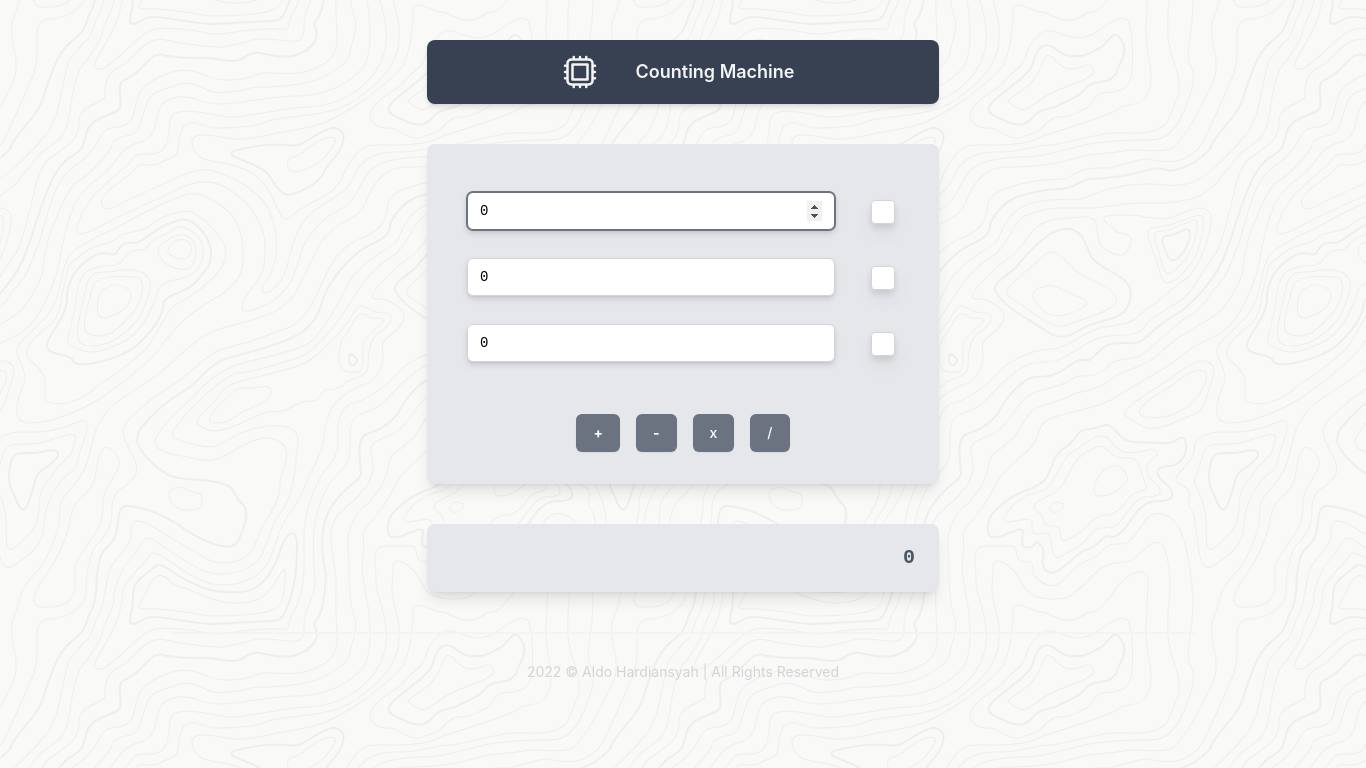
Scenario: Form Check › Do Sum no Check
Type "10" into the number field with test id "firstNumber" at x=651, y=211, box top-left (467, 192), bottom-right (835, 230)
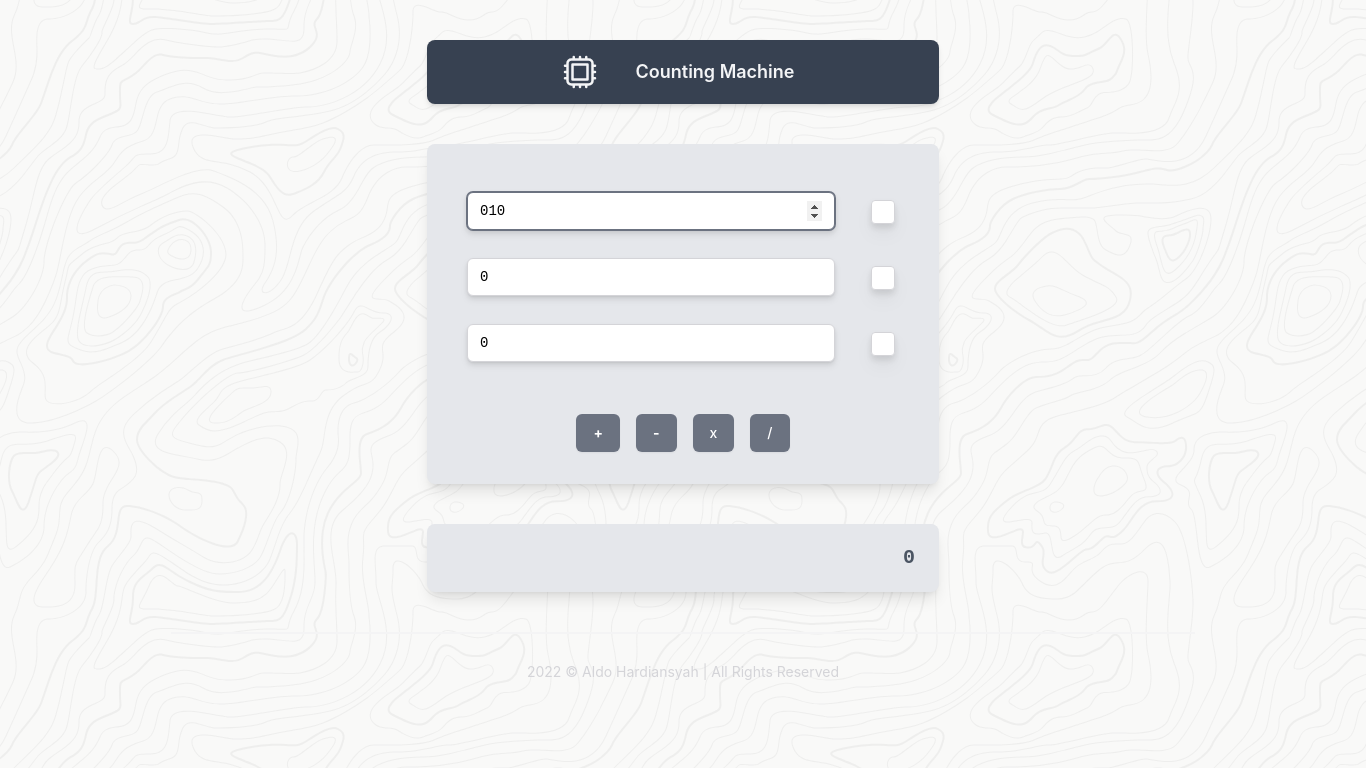
Type "2" into the number field with test id "secondNumber" at x=651, y=277, box top-left (467, 258), bottom-right (835, 296)
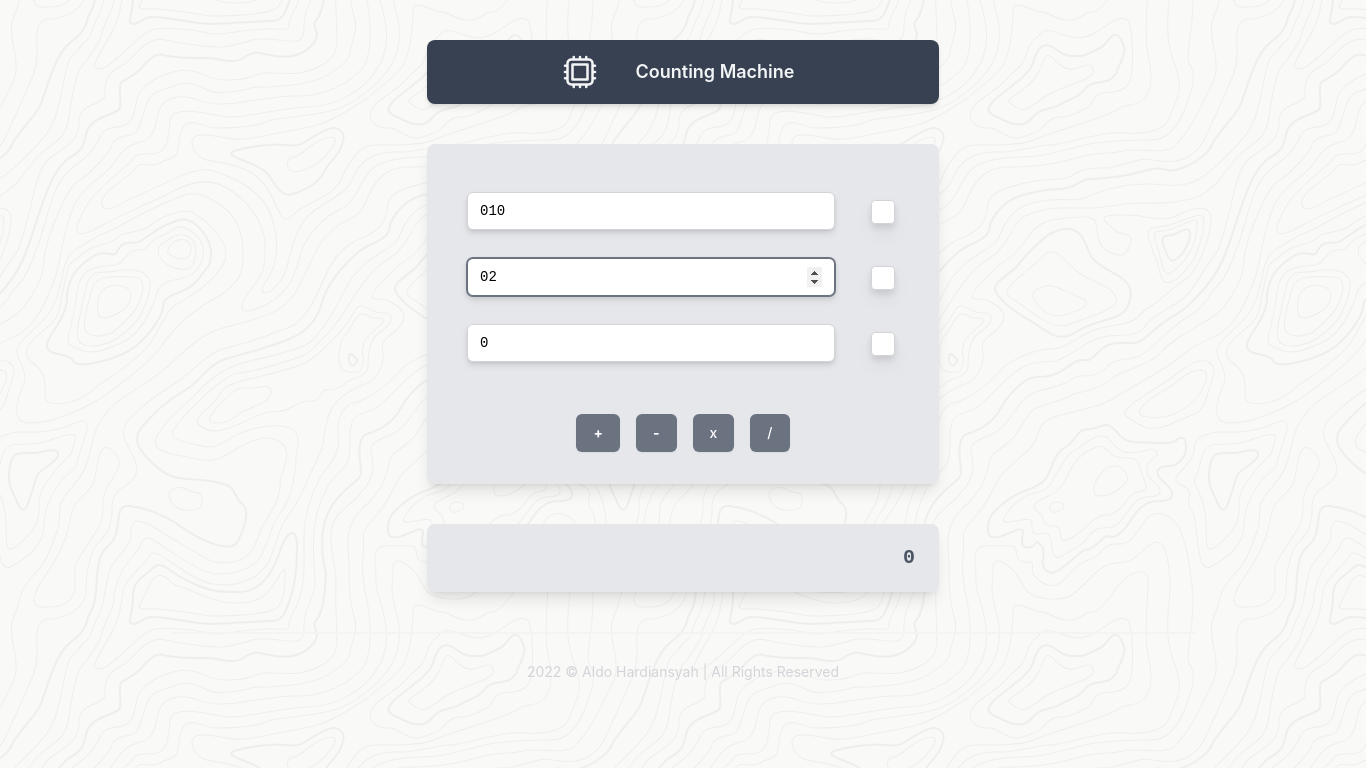
Type "5" into the number field with test id "thirdNumber" at x=651, y=343, box top-left (467, 324), bottom-right (835, 362)
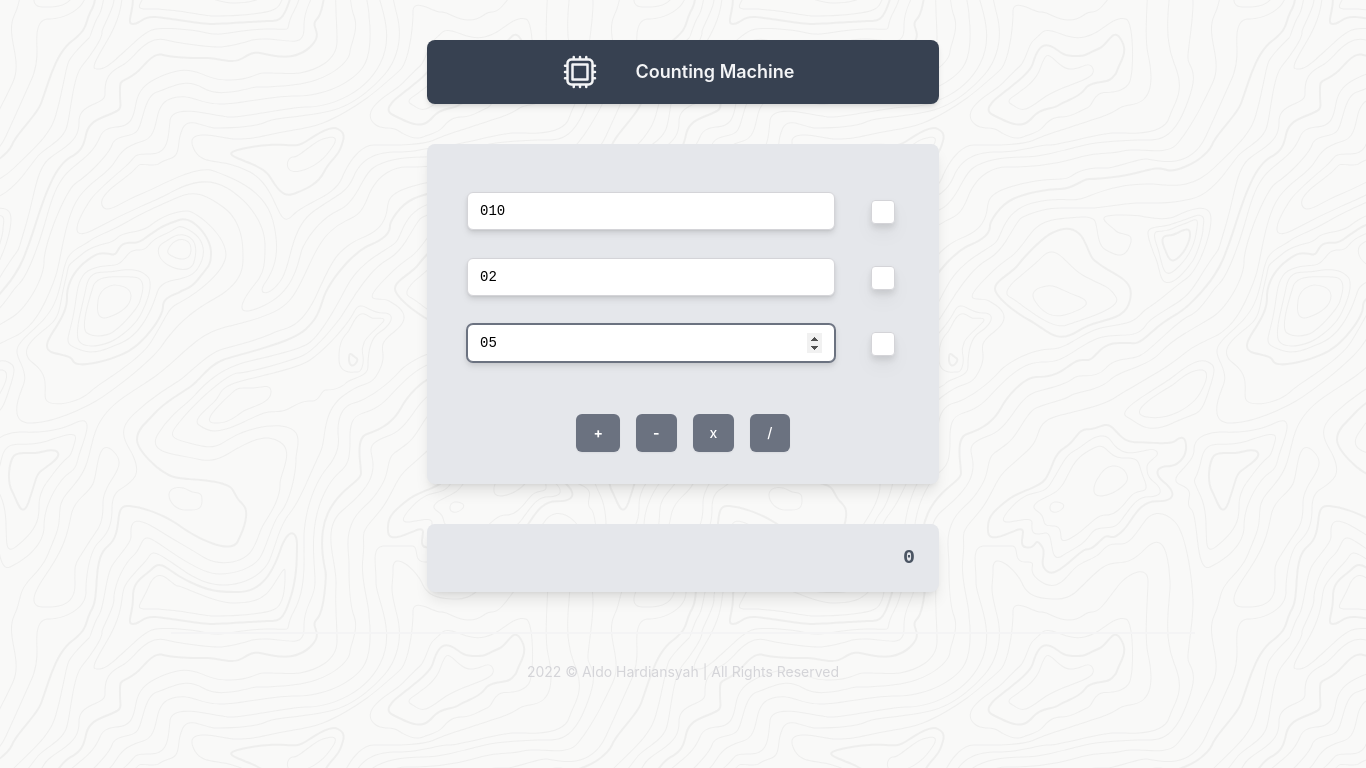
Click the button with test id "calculateSum" at x=598, y=433, box top-left (576, 414), bottom-right (620, 452)
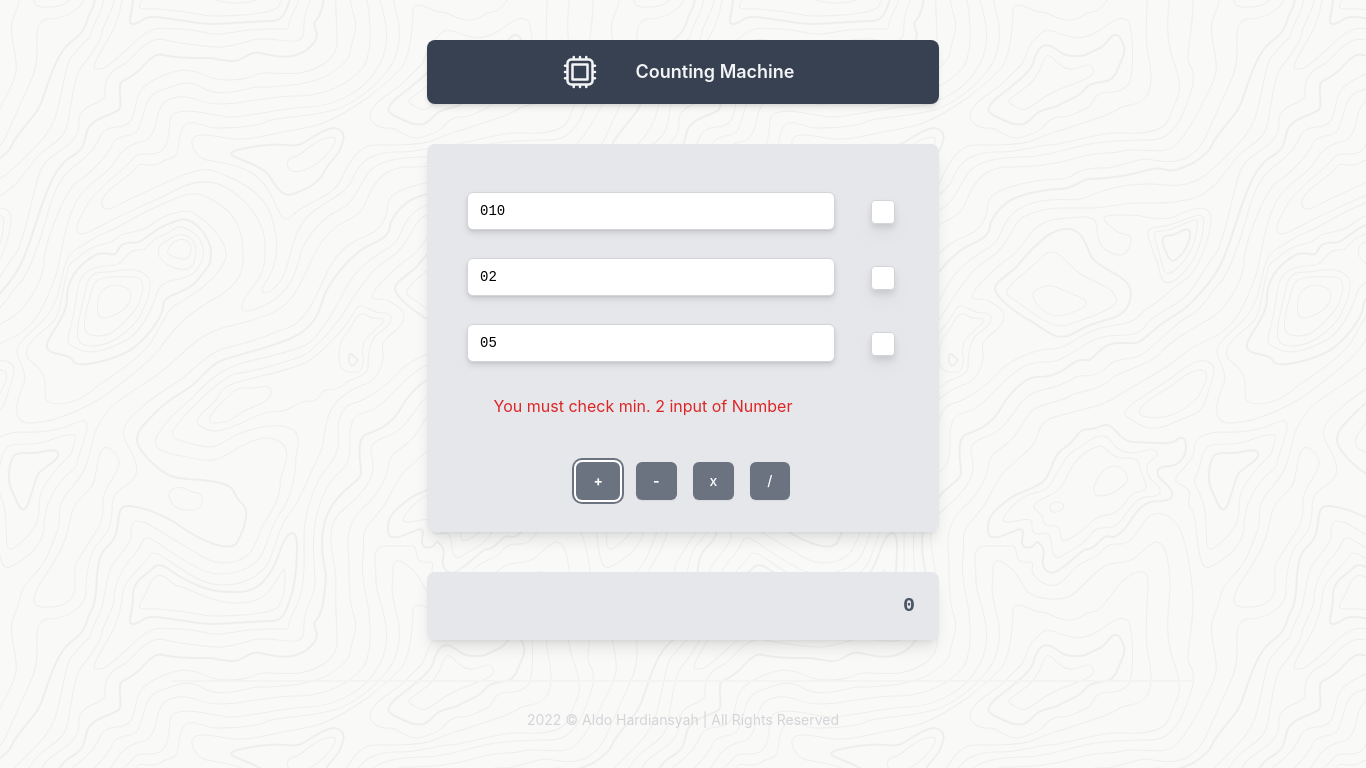
Check: the text "You must check min. 2 input of Number" is shown, box top-left (494, 396), bottom-right (792, 416)
